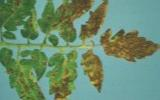Tomato Septoria leaf spot: (0, 48, 50, 100), (0, 0, 45, 37), (46, 49, 78, 100), (40, 0, 58, 42), (32, 47, 48, 82)
